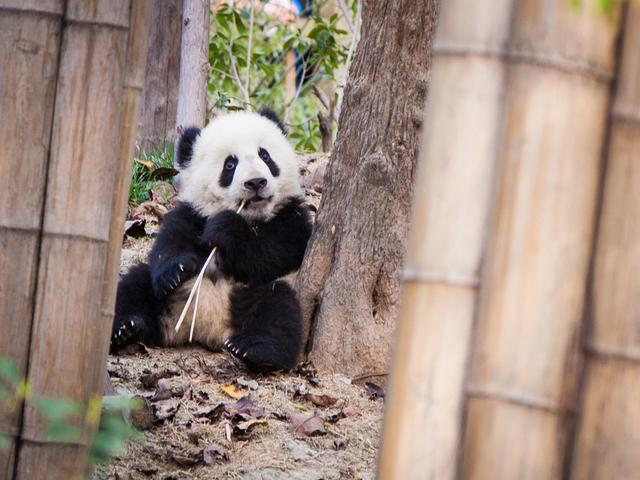panda: (91, 76, 347, 419)
